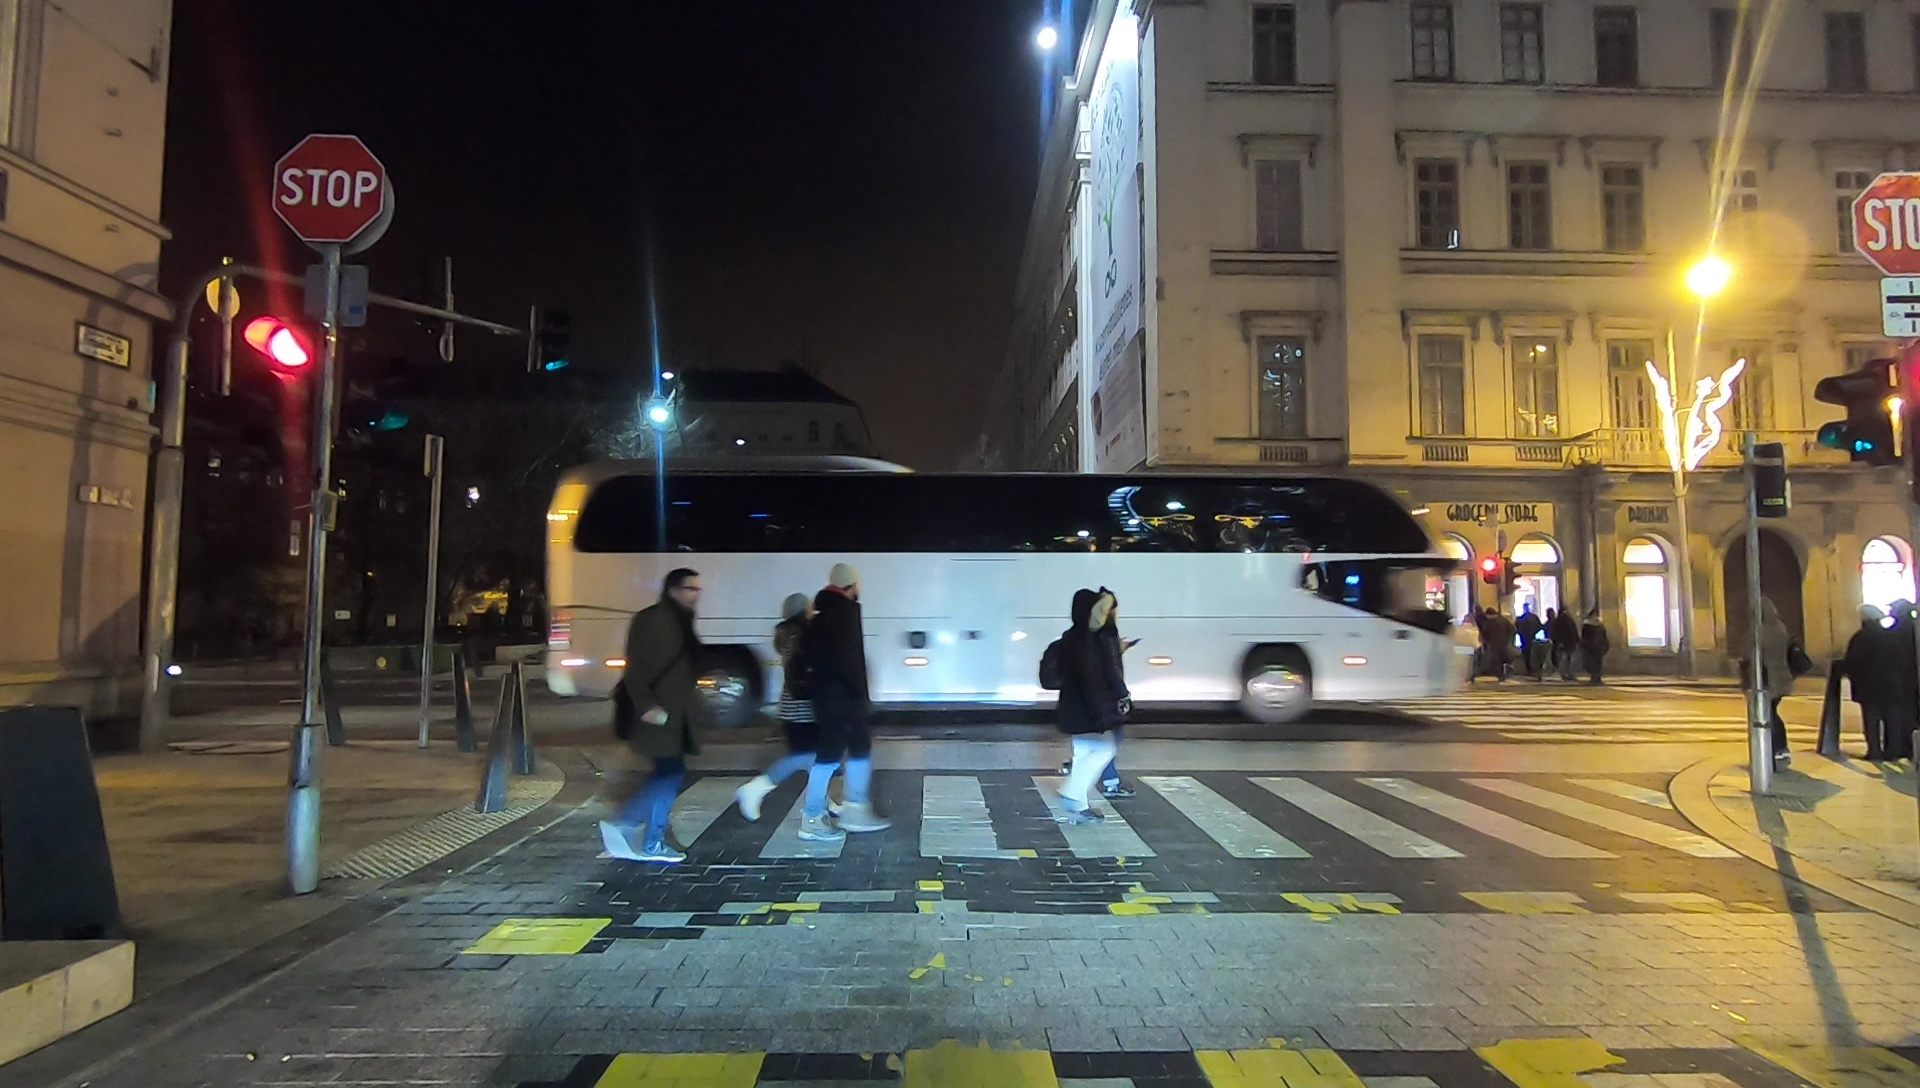person: (1034, 586, 1143, 839), (608, 580, 699, 867), (804, 571, 888, 845), (745, 595, 830, 830), (1752, 602, 1804, 758), (1886, 595, 1920, 766), (1852, 600, 1884, 750), (1551, 602, 1576, 678), (1582, 606, 1608, 678), (1515, 599, 1539, 669)
